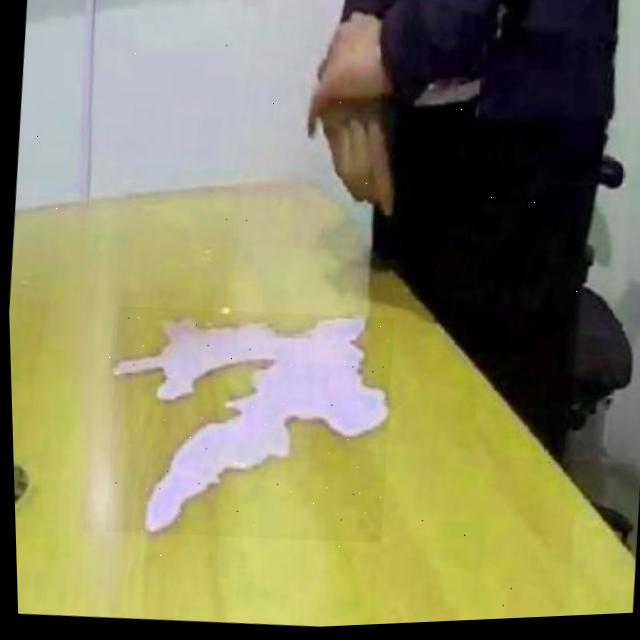spillage: (112, 320, 385, 534)
